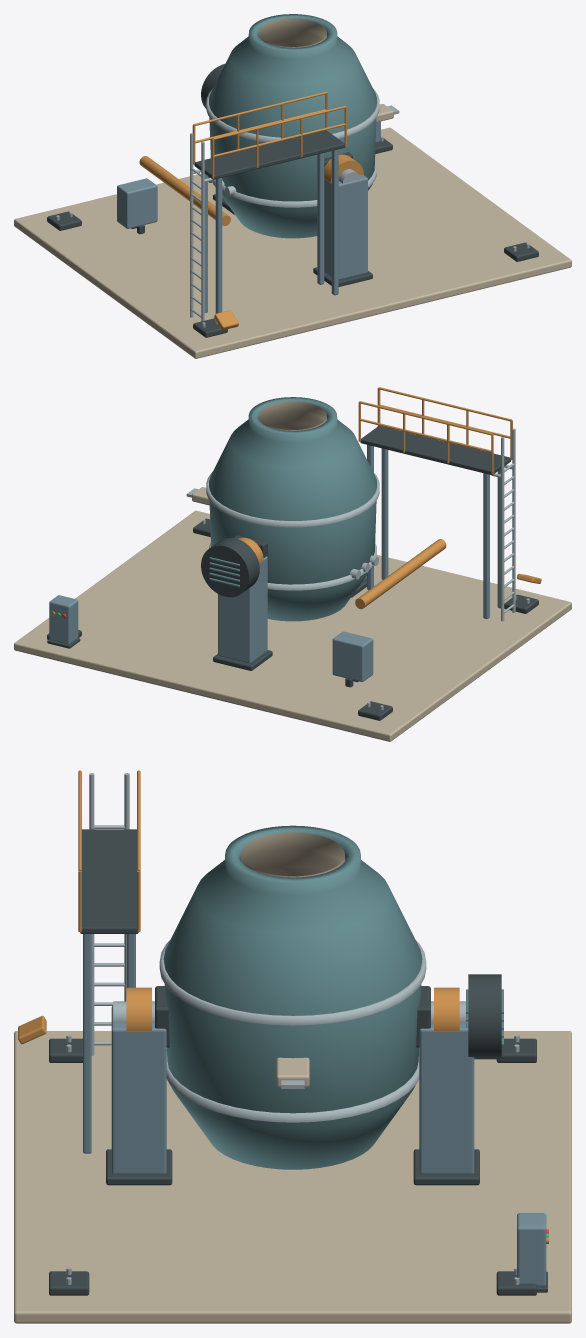
Rendered from STS-PLATE-03-lod0.glb.
3 renders of one model, top to bottom at view 1: azimuth 30°, elevation 25°; view 2: azimuth 150°, elevation 25°; view 3: azimuth 270°, elevation 25°, orthographic. The views are drawn at different scales.
Parts seen in each view (by area): view 1: foundation, refractory_vessel, far_pedestal, aod_service_deck, gas_valve_bank, refractory_lining, aod_service_support_1_1, aod_service_support_-1_1, argon_manifold, aod_service_support_1_-1, vessel_hoop_0.65, vessel_hoop_-0.7 (+6 smaller); view 2: foundation, refractory_vessel, near_pedestal, aod_service_deck, tilt_gearbox, gas_valve_bank, refractory_lining, vessel_hoop_0.65, argon_manifold, control_cabinet, aod_service_support_1_1, aod_service_support_-1_-1 (+6 smaller); view 3: foundation, refractory_vessel, far_pedestal, near_pedestal, aod_service_deck, refractory_lining, vessel_hoop_0.65, tilt_gearbox, vessel_hoop_-0.7, control_cabinet, aod_service_support_1_1, far_bearing (+9 smaller).
Boxes of the visible parts, x1,y1,x2,y2 form: foundation: [14, 127, 571, 358]; refractory_vessel: [209, 14, 376, 238]; far_pedestal: [324, 174, 367, 279]; aod_service_deck: [194, 130, 345, 179]; gas_valve_bank: [117, 178, 157, 228]; refractory_lining: [259, 18, 326, 47]; aod_service_support_1_1: [331, 149, 338, 295]; aod_service_support_-1_1: [215, 178, 222, 313]; argon_manifold: [139, 156, 230, 225]; aod_service_support_1_-1: [317, 153, 324, 284]; vessel_hoop_0.65: [206, 88, 379, 142]; vessel_hoop_-0.7: [213, 159, 376, 207]; foundation: [14, 510, 571, 741]; refractory_vessel: [209, 397, 376, 621]; near_pedestal: [218, 556, 267, 663]; aod_service_deck: [360, 425, 511, 474]; tilt_gearbox: [201, 538, 259, 597]; gas_valve_bank: [332, 631, 373, 681]; refractory_lining: [259, 401, 326, 430]; vessel_hoop_0.65: [206, 472, 379, 527]; argon_manifold: [355, 539, 446, 609]; control_cabinet: [49, 595, 78, 644]; aod_service_support_1_1: [381, 448, 388, 579]; aod_service_support_-1_-1: [483, 473, 489, 618]; foundation: [14, 1031, 571, 1323]; refractory_vessel: [163, 825, 422, 1169]; far_pedestal: [111, 1006, 166, 1174]; near_pedestal: [419, 1023, 474, 1174]; aod_service_deck: [80, 829, 138, 933]; refractory_lining: [241, 832, 344, 877]; vessel_hoop_0.65: [159, 940, 426, 1025]; tilt_gearbox: [468, 974, 501, 1059]; vessel_hoop_-0.7: [166, 1049, 419, 1122]; control_cabinet: [517, 1213, 546, 1286]; aod_service_support_1_1: [83, 934, 91, 1153]; far_bearing: [126, 987, 151, 1030].
Size of the model in its own units: 9.1 by 4.97 by 7.6.
